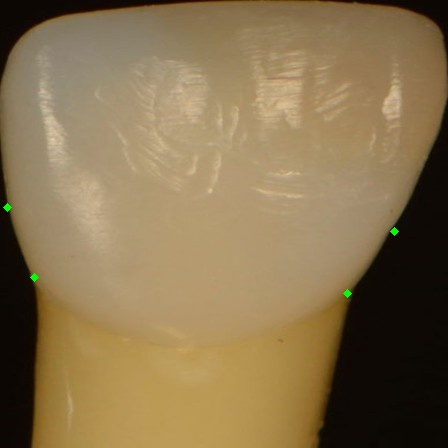coin_1: (347, 293, 367, 313)
coin_2: (394, 231, 414, 251)
coin_3: (34, 277, 54, 297)
coin_4: (7, 207, 27, 227)
